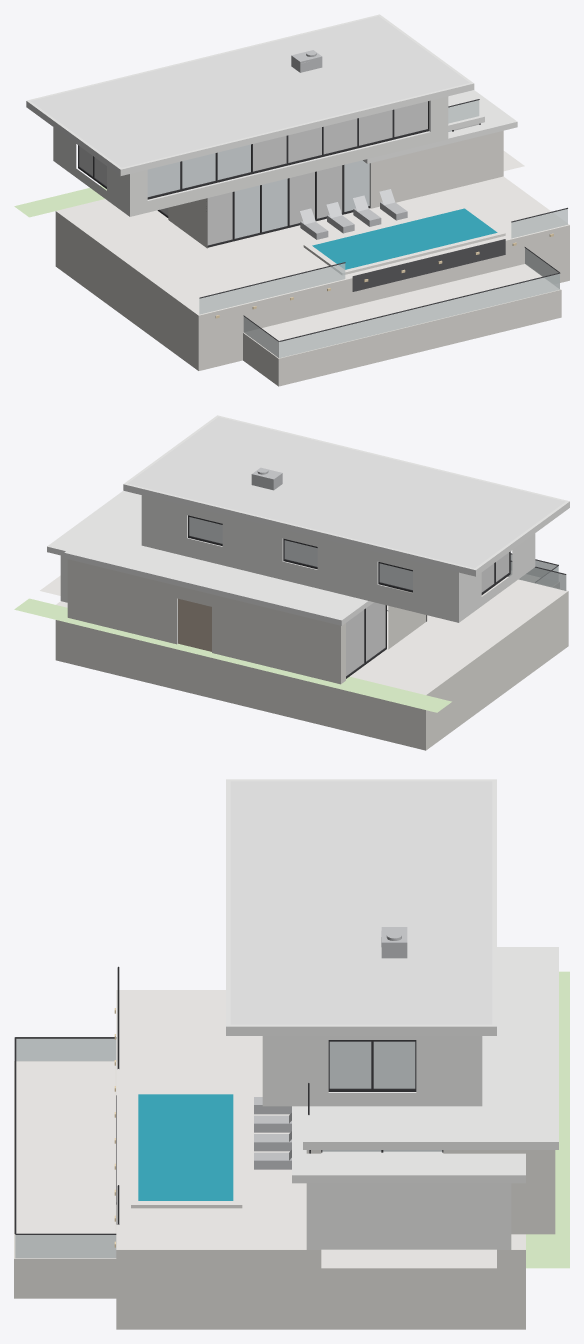
Rendered from mansion_w96b.glb.
3 renders of one model, top to bottom at view 1: azimuth 30°, elevation 25°; view 2: azimuth 150°, elevation 25°; view 3: azimuth 270°, elevation 25°, orthographic. The views are drawn at different scales.
Parts seen in each view (by area): view 1: mansion_w96b_Walls2, mansion_w96b_Site, mansion_w96b_Roof, mansion_w96b_Clear, mansion_w96b_WindowsLit, mansion_w96b_Trim, mansion_w96b_Walls, mansion_w96b_Glass, mansion_w96b_Water, mansion_w96b_Frames, mansion_w96b_Details, mansion_w96b_Accent (+1 smaller); view 2: mansion_w96b_Walls2, mansion_w96b_Roof, mansion_w96b_Trim, mansion_w96b_Walls, mansion_w96b_Site, mansion_w96b_Lawn, mansion_w96b_WindowsLit, mansion_w96b_Glass, mansion_w96b_Doors, mansion_w96b_Frames, mansion_w96b_Clear, mansion_w96b_Details; view 3: mansion_w96b_Roof, mansion_w96b_Site, mansion_w96b_Walls2, mansion_w96b_Trim, mansion_w96b_Walls, mansion_w96b_Water, mansion_w96b_Clear, mansion_w96b_Lawn, mansion_w96b_Glass, mansion_w96b_Details, mansion_w96b_Frames.
Part boxes in pixels (box(x1,y1,x2,y2)): mansion_w96b_Walls2: box(55, 130, 569, 386); mansion_w96b_Site: box(56, 151, 569, 357); mansion_w96b_Roof: box(31, 16, 469, 167); mansion_w96b_Clear: box(199, 100, 567, 357); mansion_w96b_WindowsLit: box(79, 101, 479, 245); mansion_w96b_Trim: box(26, 14, 517, 200); mansion_w96b_Walls: box(53, 96, 448, 216); mansion_w96b_Glass: box(147, 130, 451, 238); mansion_w96b_Water: box(312, 208, 497, 269); mansion_w96b_Frames: box(78, 99, 567, 341); mansion_w96b_Details: box(291, 50, 407, 239); mansion_w96b_Accent: box(352, 239, 505, 291); mansion_w96b_Walls2: box(55, 559, 568, 750); mansion_w96b_Roof: box(128, 417, 565, 568); mansion_w96b_Trim: box(47, 415, 569, 643); mansion_w96b_Walls: box(60, 495, 535, 622); mansion_w96b_Site: box(40, 571, 567, 694); mansion_w96b_Lawn: box(14, 598, 451, 712); mansion_w96b_WindowsLit: box(346, 552, 509, 675); mansion_w96b_Glass: box(189, 517, 412, 589); mansion_w96b_Doors: box(178, 598, 211, 651); mansion_w96b_Frames: box(188, 515, 566, 678); mansion_w96b_Clear: box(507, 554, 566, 590); mansion_w96b_Details: box(251, 467, 282, 490); mansion_w96b_Roof: box(230, 781, 492, 1024); mansion_w96b_Site: box(15, 990, 525, 1268); mansion_w96b_Walls2: box(14, 1061, 555, 1329); mansion_w96b_Trim: box(226, 779, 558, 1183); mansion_w96b_Walls: box(262, 1036, 511, 1249); mansion_w96b_Water: box(138, 1094, 233, 1200); mansion_w96b_Clear: box(15, 1038, 116, 1258); mansion_w96b_Lawn: box(526, 971, 569, 1268); mansion_w96b_Glass: box(322, 1041, 442, 1151); mansion_w96b_Details: box(254, 927, 407, 1169); mansion_w96b_Frames: box(14, 966, 443, 1234).
Bounding box in the file's own units: 99 × 42.4 × 76.
